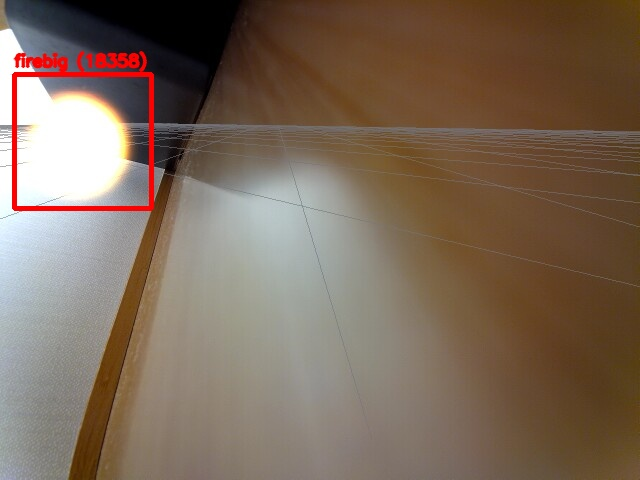firebig: (14, 74, 151, 208)
